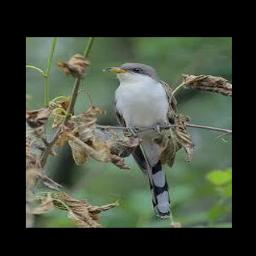Cuckoo: (102, 62, 176, 219)
